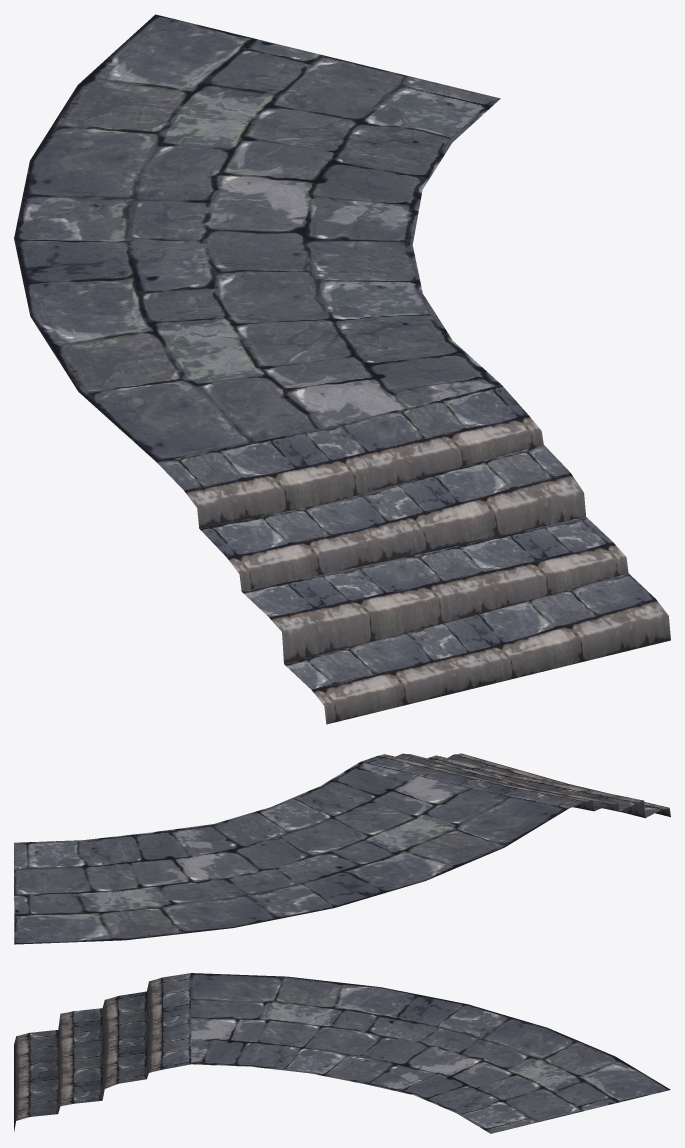
The model's file is Stairs.FBX.
3 views of the same model, one above another, from view 1: azimuth 30°, elevation 25°; view 2: azimuth 150°, elevation 25°; view 3: azimuth 270°, elevation 25° (orthographic). The views are drawn at different scales.
Parts seen in each view (by area): view 1: Stairs; view 2: Stairs; view 3: Stairs.
Part boxes in pixels (box(x1,y1,x2,y2)): Stairs: box(14, 14, 670, 724); Stairs: box(14, 753, 670, 944); Stairs: box(14, 973, 670, 1133).
Size of the model in its own units: 163 by 34.09 by 282.
